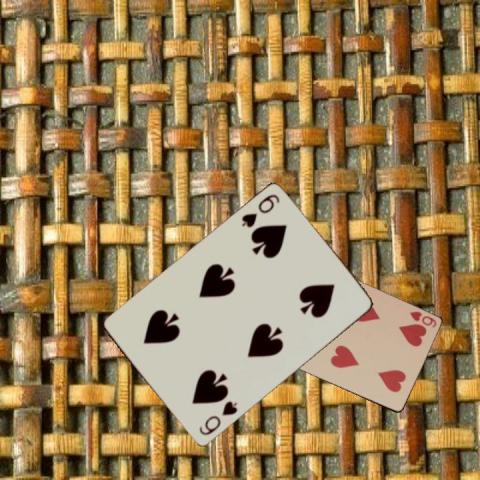6h: (407, 308, 437, 329)
6s: (195, 398, 239, 437), (239, 191, 281, 230)
